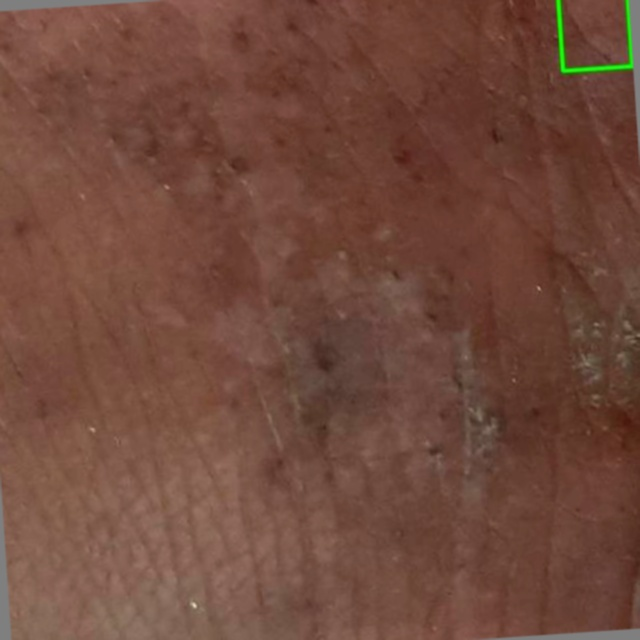Eczema: (558, 0, 632, 71)
